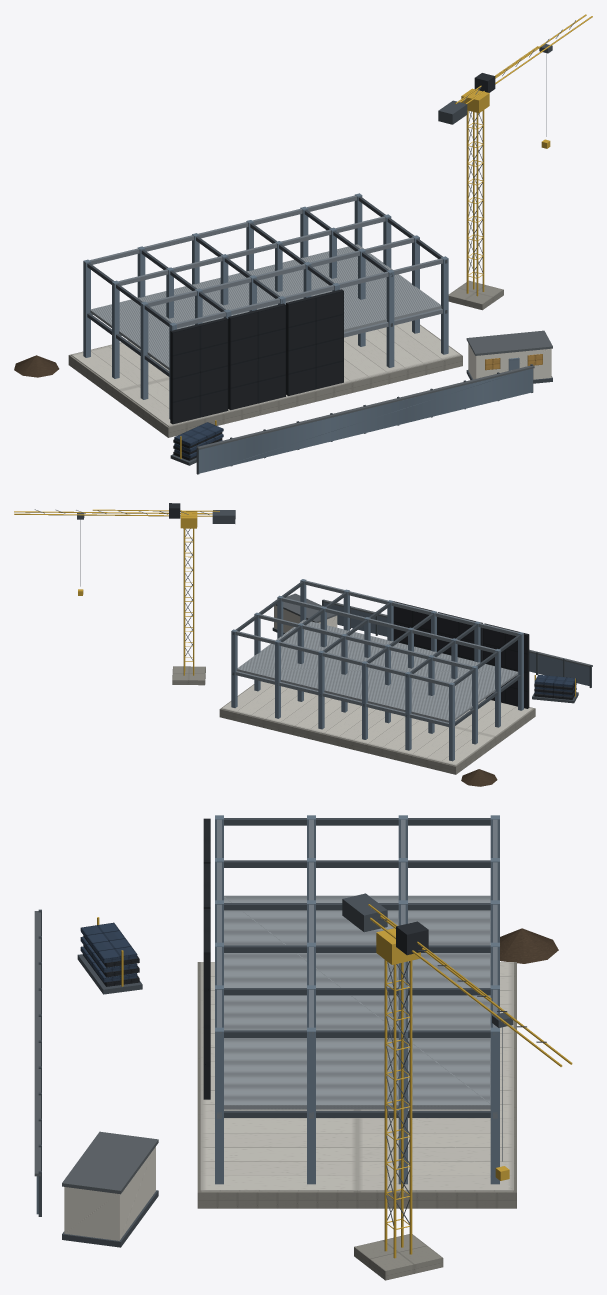
File: el-1-construction.glb
3 renders of one model, top to bottom at view 1: azimuth 30°, elevation 25°; view 2: azimuth 150°, elevation 25°; view 3: azimuth 270°, elevation 25°, orthographic. The views are drawn at different scales.
Bounding box in the file's own units: 52.81 × 18.75 × 26.11.
Materials: 21 (13 with a texture image).
